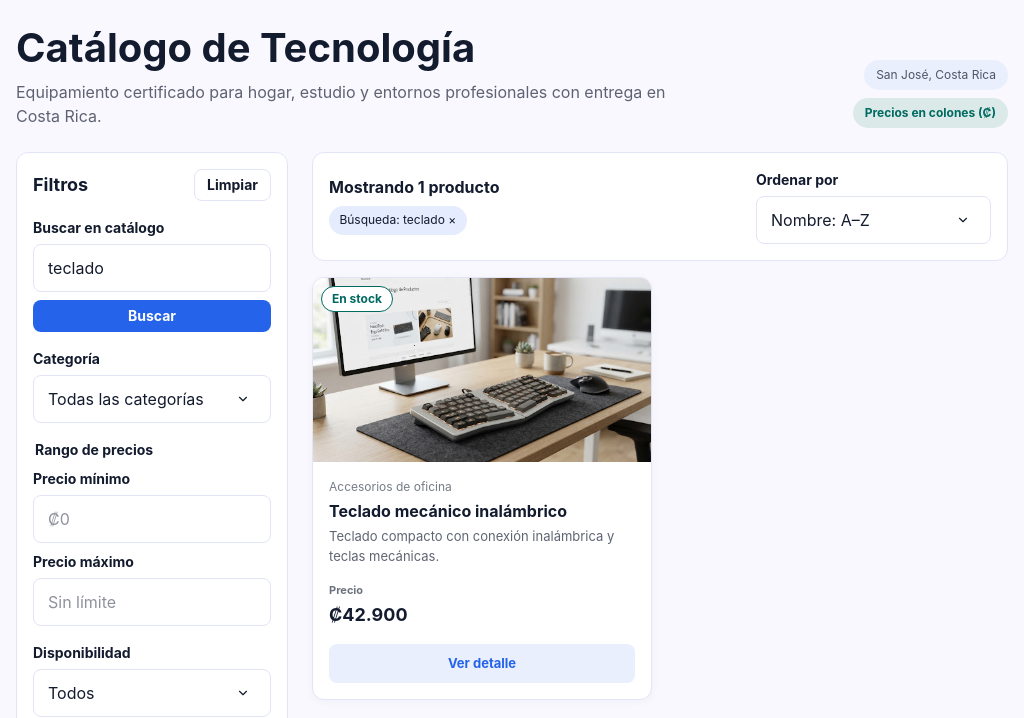
Test case: CatalogPage › permite quitar un filtro activo desde su chip
The image size is (1024, 718).
Check: the heading "Mostrando 1 producto" is shown, box [329,177,500,197]
Step 1. Click the button with aria-label "Quitar filtro Búsqueda: teclado" → click(398, 220), box [329,206,467,235]
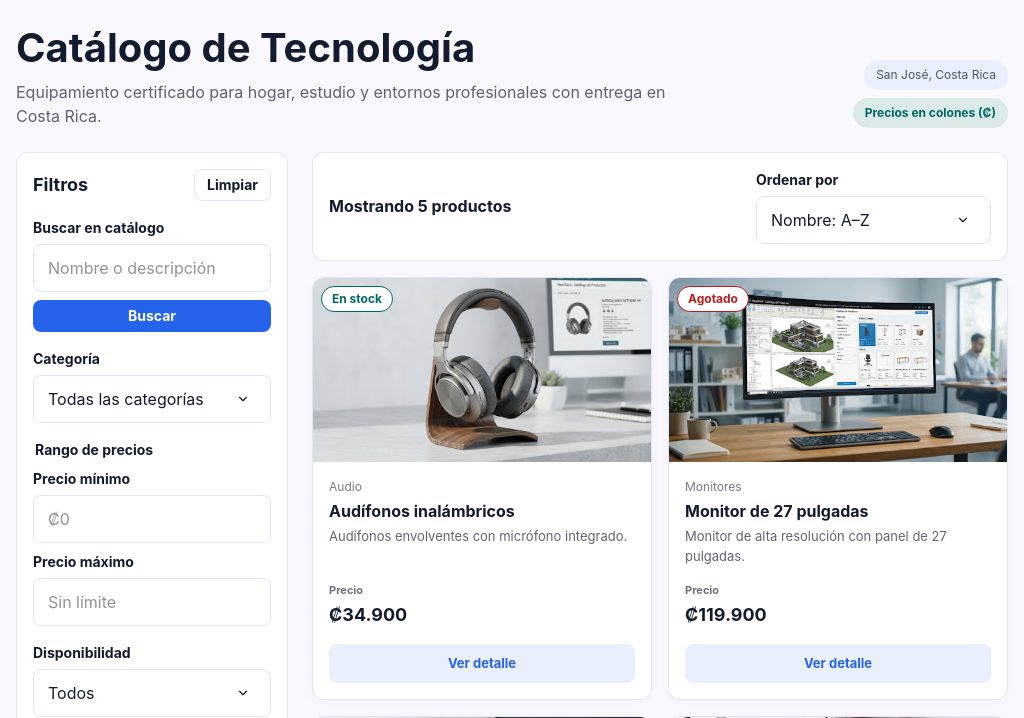
Check: the heading "Mostrando 5 productos" is shown, box [329,196,512,216]
